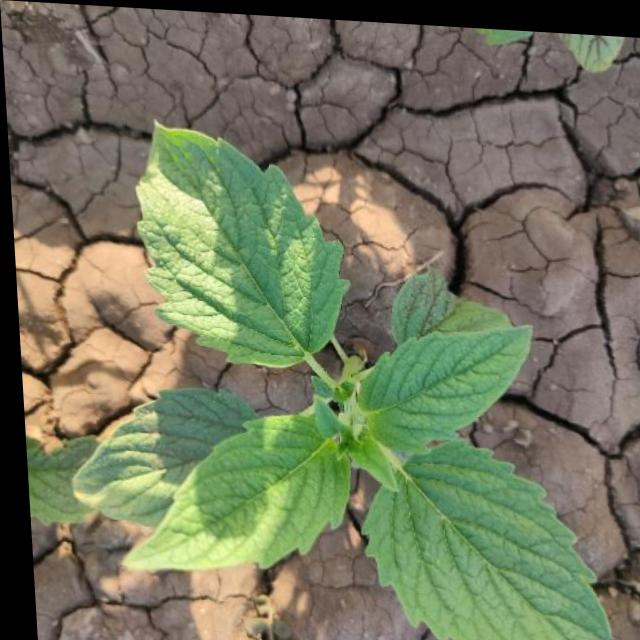crop: (44, 95, 620, 640)
